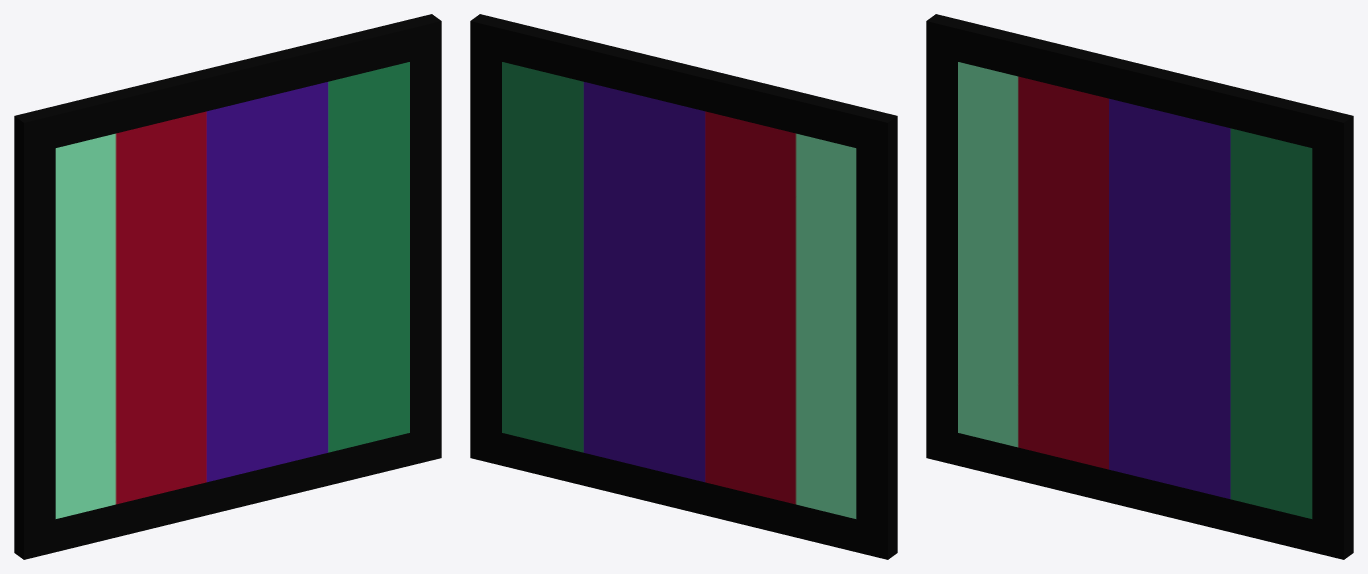
File: transparency_test.fbx
The picture shows the model from 3 angles, left to right: view 1: azimuth 30°, elevation 25°; view 2: azimuth 150°, elevation 25°; view 3: azimuth 330°, elevation 25°; orthographic projection.
Visible parts, largest first — view 1: Cube; view 2: Cube; view 3: Cube.
Part boxes in pixels (x1,y1,x2,y2): Cube: (14, 14, 441, 559); Cube: (470, 14, 897, 559); Cube: (926, 14, 1353, 559).
Bounding box in the file's own units: 2 × 2 × 0.08.
